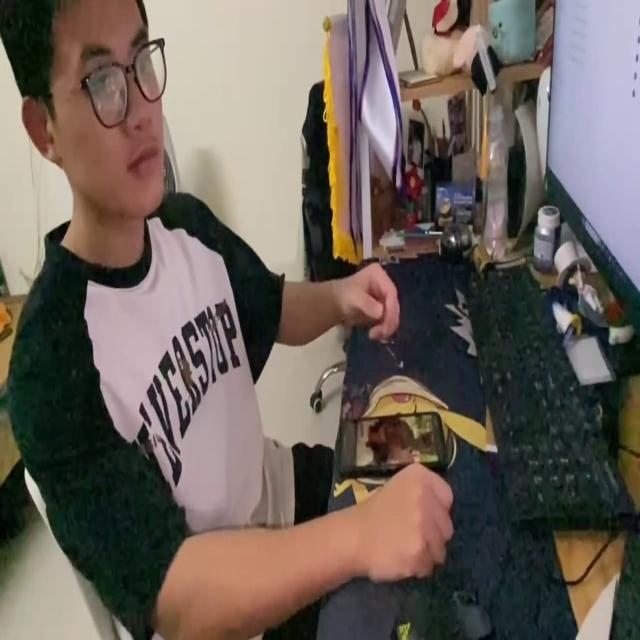laptop: (544, 0, 640, 333)
phone: (332, 408, 450, 475)
student: (0, 0, 454, 640)
